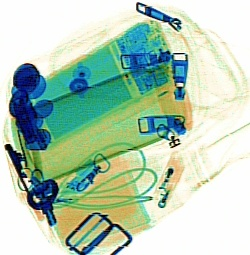lighter: (150, 149, 186, 208)
